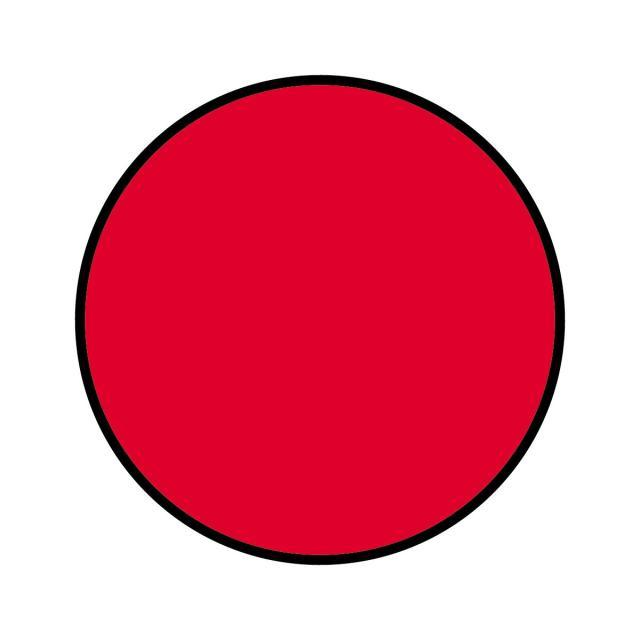Circle: (72, 72, 570, 567)
